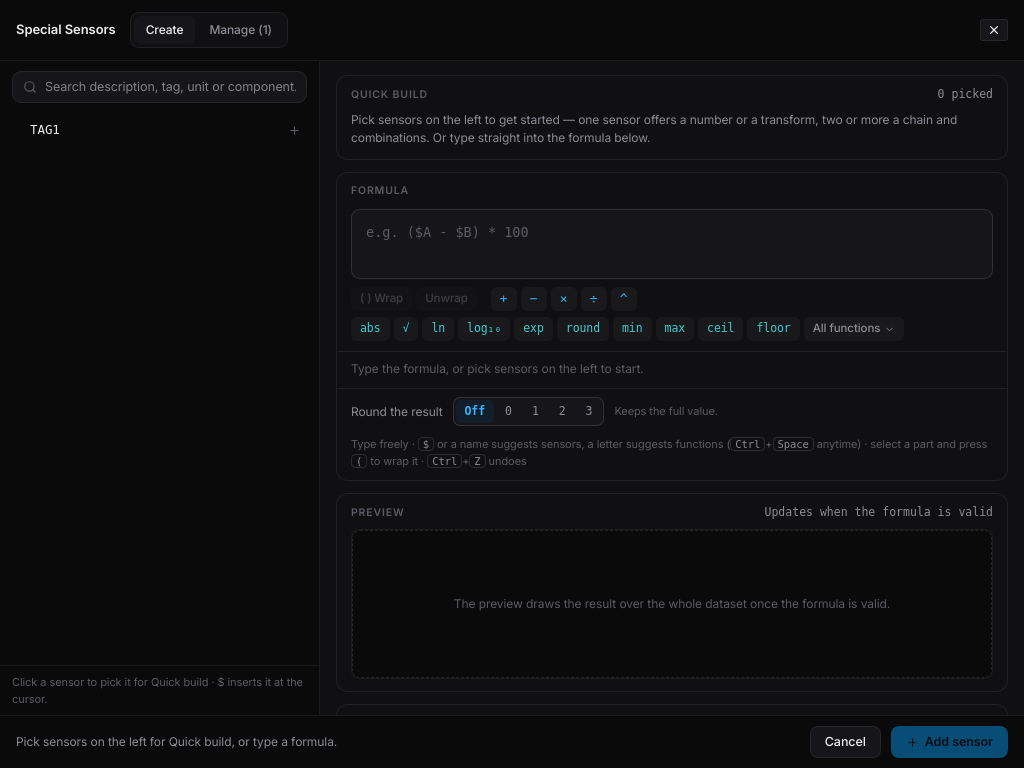
Test: AddSensorWindow › refuses to delete a sensor a Failure Group model uses
Click the tab "Manage (1)": (241, 30) [197, 16, 284, 44]
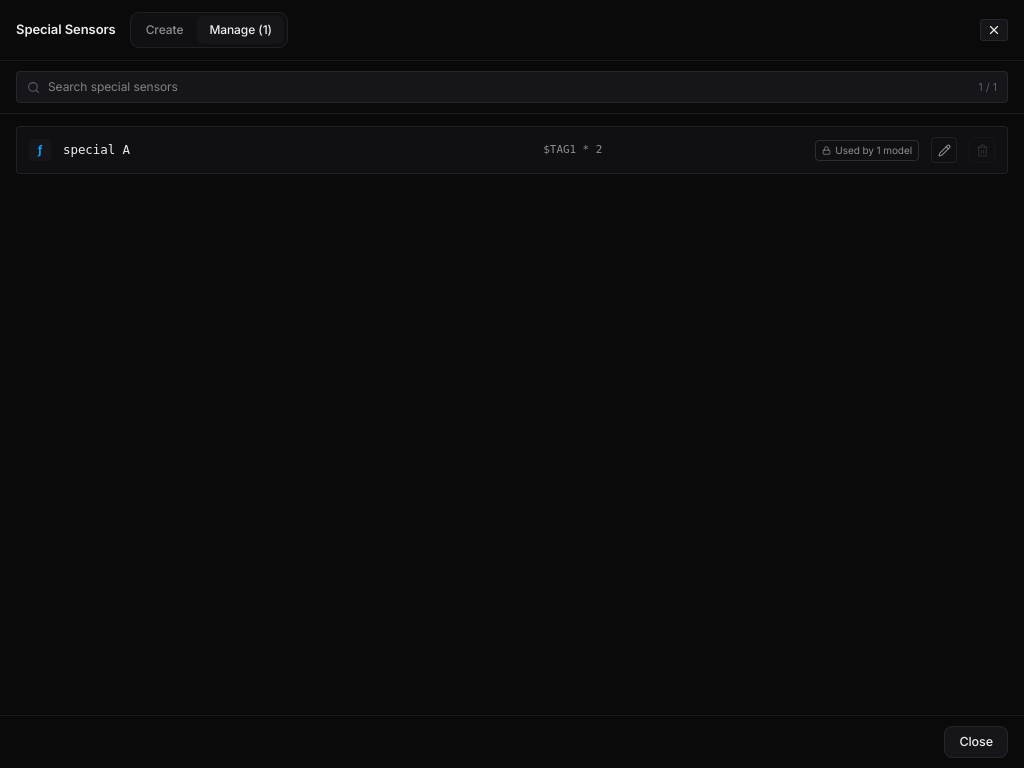
Expected: the button named "Delete special A" is disabled, [969, 137, 995, 163]
